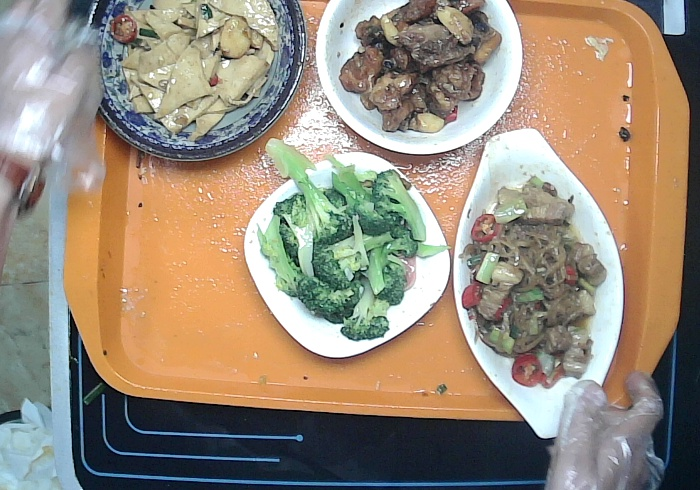ZNLD-Qing_Hua_Wan: (76, 1, 309, 166)
ZNLD-Si_Fang_Wan: (239, 147, 457, 362)
ZNLD-Tang_Wan: (313, 1, 526, 159)
ZNLD-Yu_Pan: (449, 120, 629, 444)
